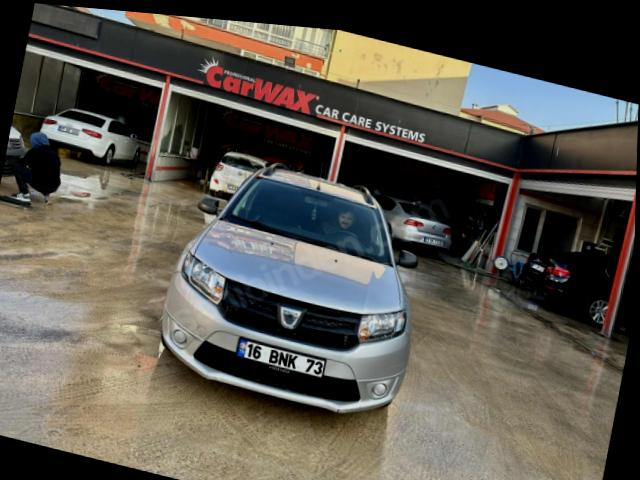plaka: (236, 338, 325, 377)
